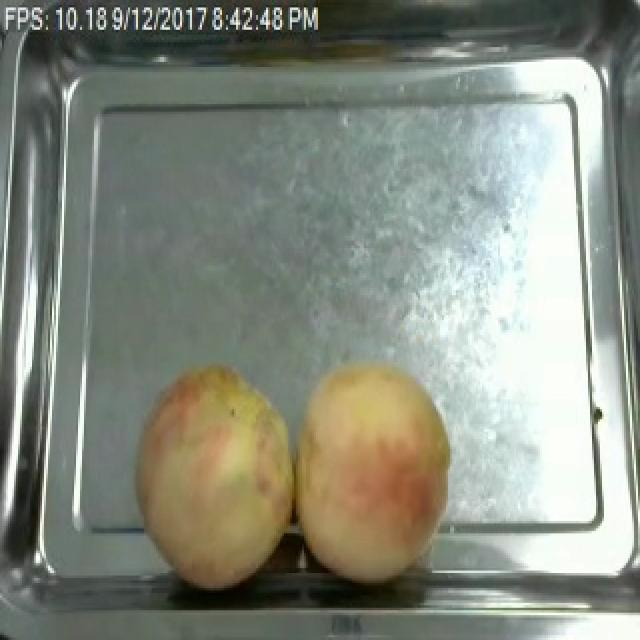Fruit: (286, 352, 460, 598), (128, 357, 302, 598)
